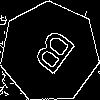B: (25, 27, 78, 84)
